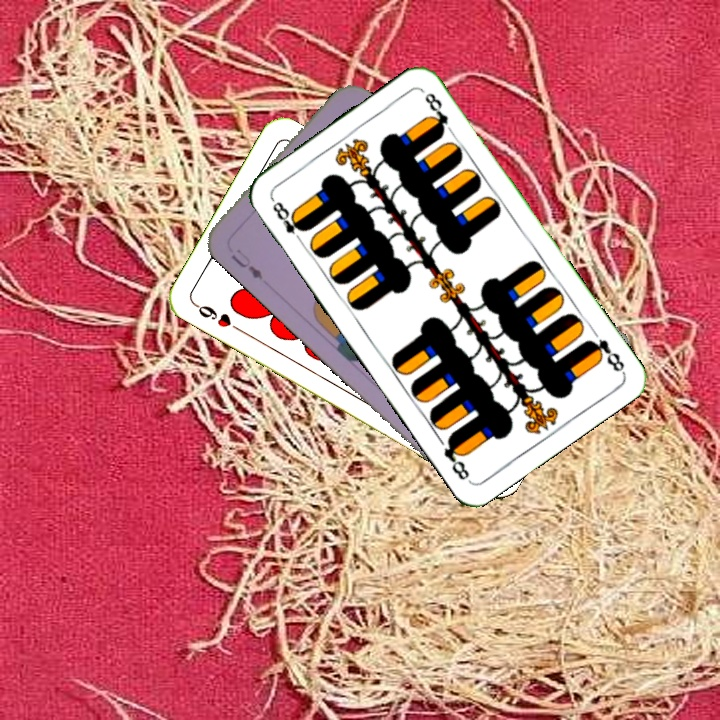E8: (267, 194, 309, 247), (582, 335, 628, 375)
EU: (226, 246, 266, 282)
H9: (190, 299, 244, 334)
